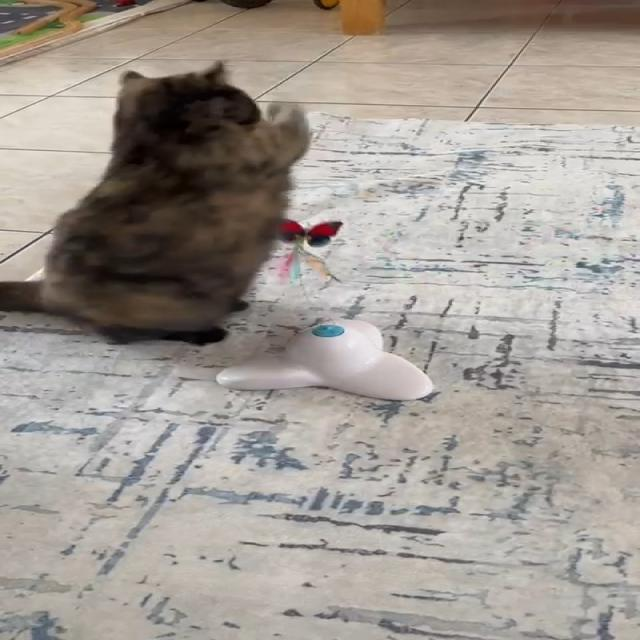authorized: (0, 59, 311, 346)
